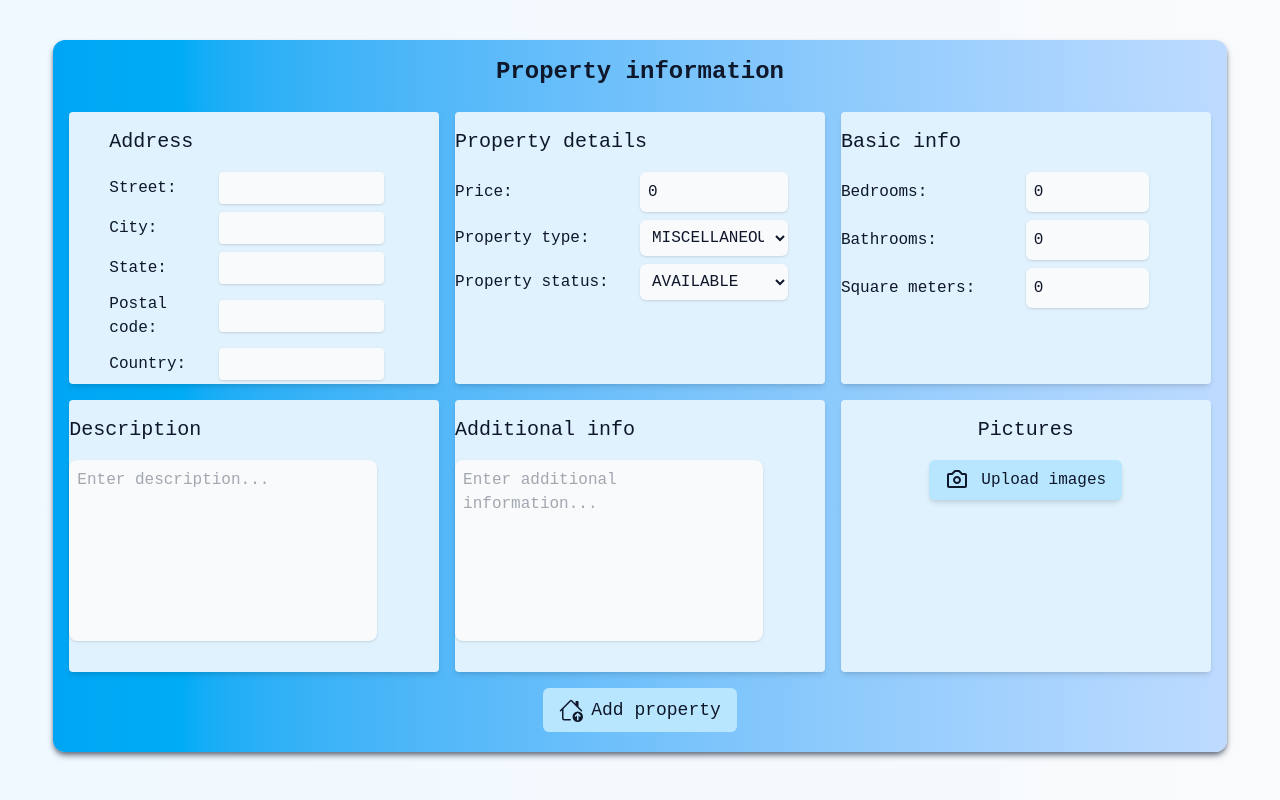
Scenario: AddPropertyPage › should display success message on successful submission
Type "123 Main St" into the field labelled "Street:" at (302, 188), box [219,172,384,204]
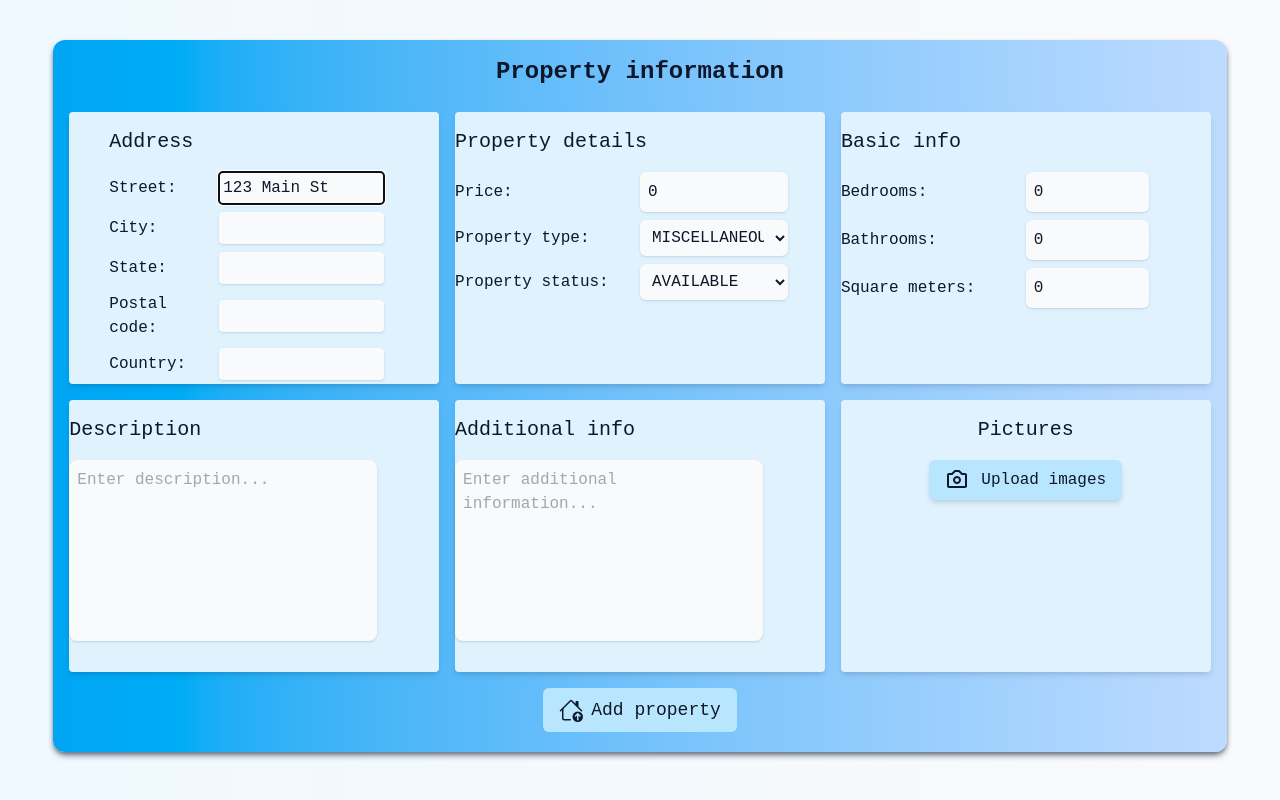
Click the button "Add property" at (640, 710), box [543,688,737,732]
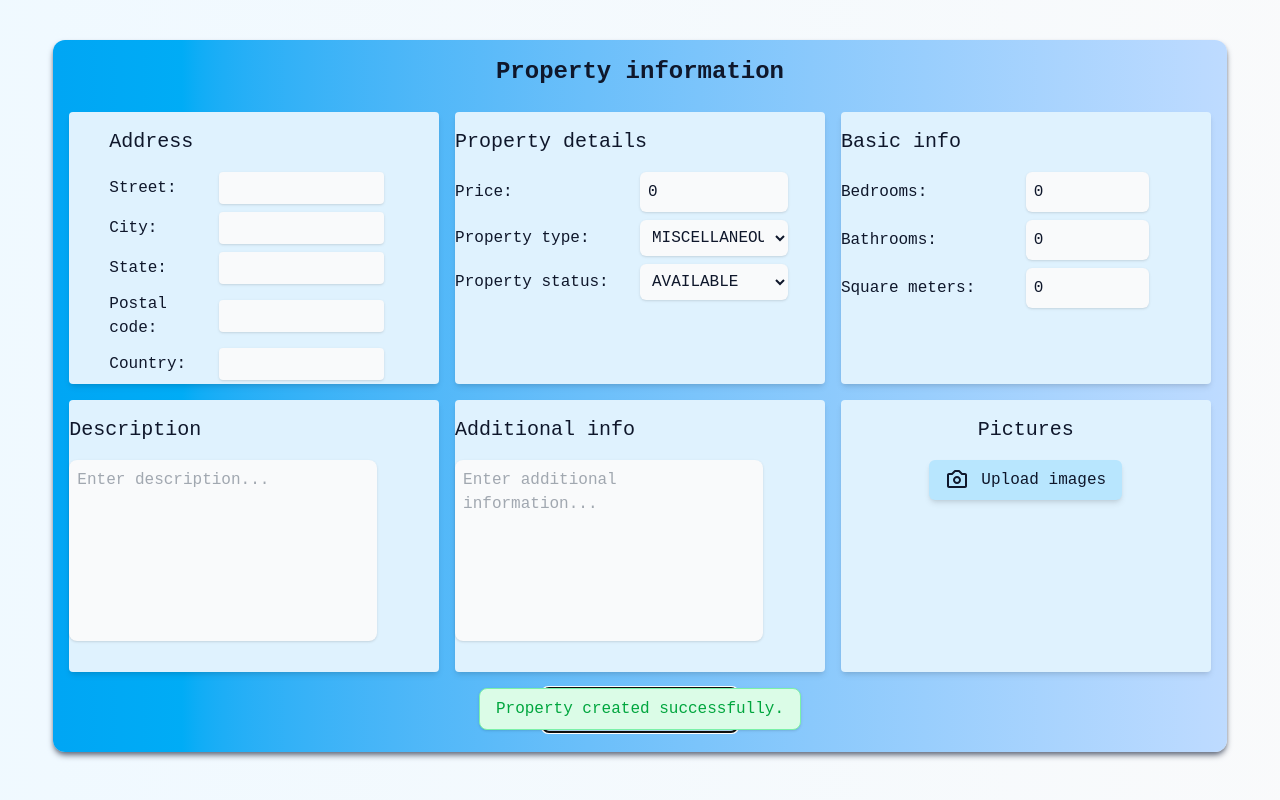
Expected: the text "Property created successfully." is shown, [479,688,801,730]
